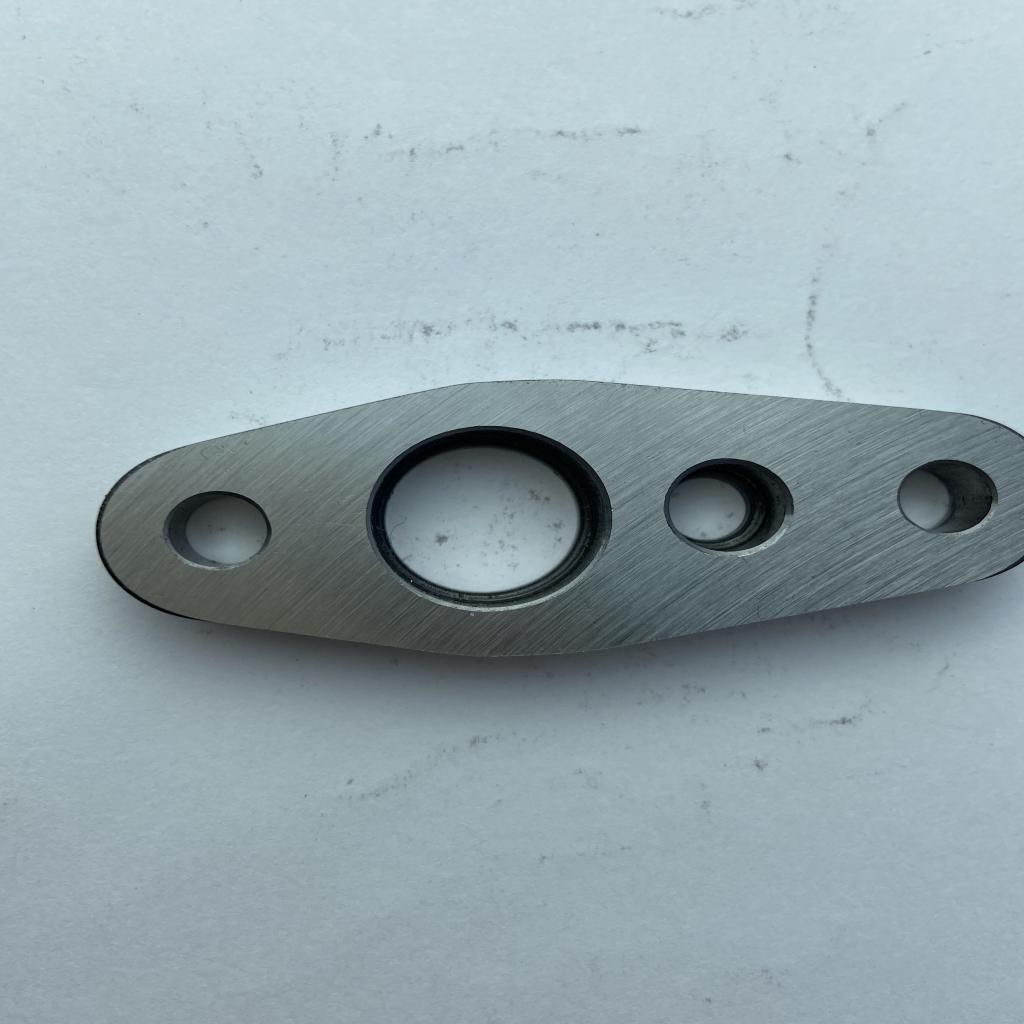chap: (464, 610, 478, 619), (608, 506, 616, 512)
lines: (1016, 490, 1024, 527)
